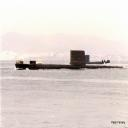submarine: (16, 51, 126, 70), (70, 56, 113, 65)
